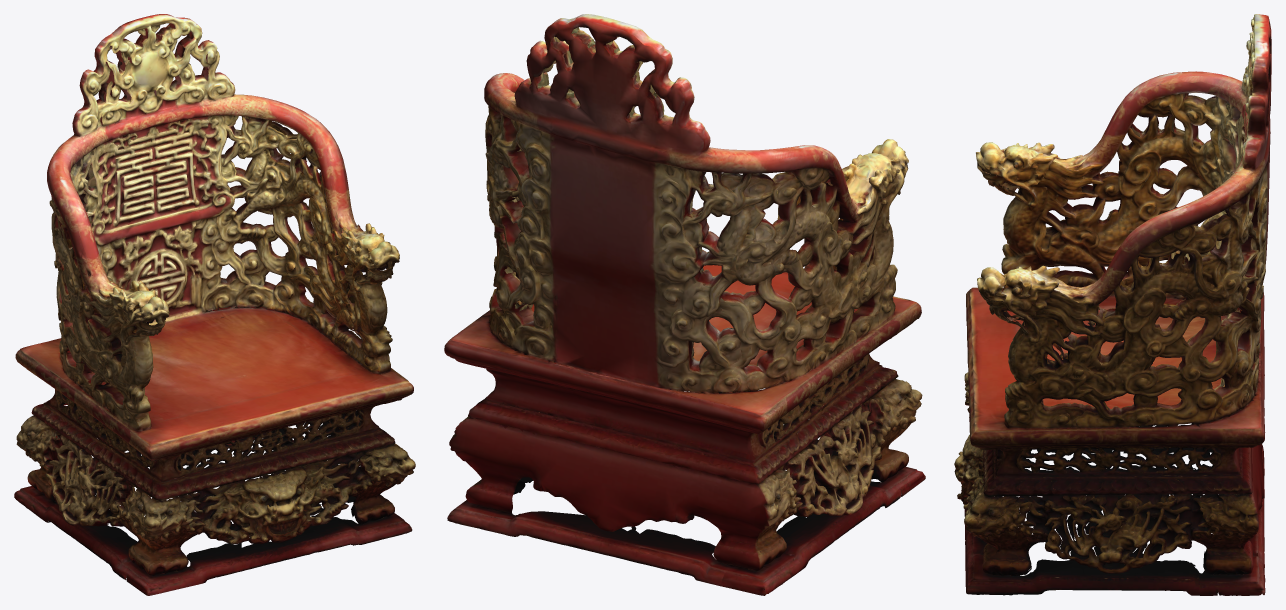
File: ngai-hoang-de.glb
3 renders of one model, left to right at view 1: azimuth 30°, elevation 25°; view 2: azimuth 150°, elevation 25°; view 3: azimuth 270°, elevation 25°, orthographic. The views are drawn at different scales.
Parts seen in each view (by area): view 1: NgaiCuaHoangDe; view 2: NgaiCuaHoangDe; view 3: NgaiCuaHoangDe.
Part boxes in pixels (bbox=[...]): NgaiCuaHoangDe: bbox=[14, 14, 415, 595]; NgaiCuaHoangDe: bbox=[444, 14, 925, 595]; NgaiCuaHoangDe: bbox=[954, 14, 1271, 595].
Size of the model in its own units: 0.7544 by 1.12 by 0.6459.
Materials: 1 (1 with a texture image).
